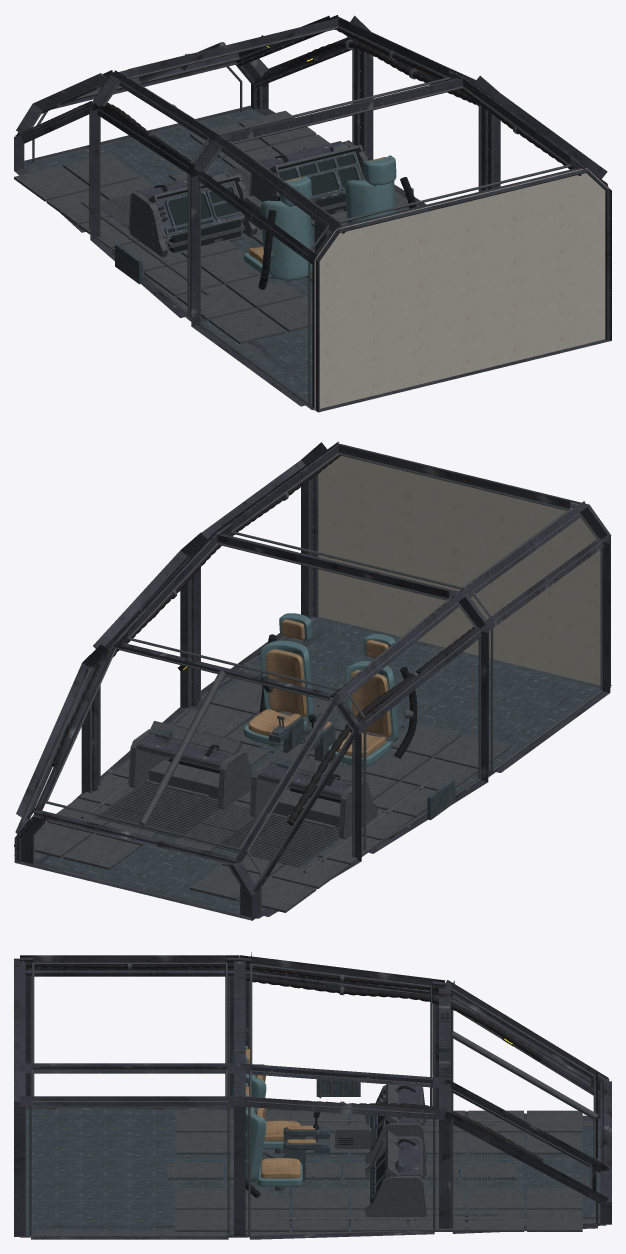
The model's file is miner-cockpit.glb.
The picture shows the model from 3 angles, top to bottom: view 1: azimuth 30°, elevation 25°; view 2: azimuth 150°, elevation 25°; view 3: azimuth 270°, elevation 25°; orthographic projection. The views are drawn at different scales.
Parts seen in each view (by area): view 1: cabin-lining, strut-paint, weathered-blue-steel, exposed-machined-edges, graphite-housings, strut-edge, hose-duct, seat-shell-back-0.0, rubber-and-recess, seat-shell-back-1.2, pod-face, hose-rubber (+2 smaller); view 2: strut-paint, weathered-blue-steel, cabin-lining, graphite-housings, exposed-machined-edges, strut-edge, hose-duct, seat-cushion-back-1.2, pod-face, seat-cushion-back-0.0, seat-shell-back-1.2, hose-rubber (+2 smaller); view 3: strut-paint, weathered-blue-steel, graphite-housings, exposed-machined-edges, hose-duct, strut-edge, pod-face, seat-shell-back-1.2, seat-cushion-pan-1.2, rubber-and-recess, seat-cushion-pan-0.0, seat-shell-pan-1.2.
Boxes of the visible parts, box(x1,y1,x2,y2) form: cabin-lining: box(314, 168, 608, 409); strut-paint: box(14, 15, 611, 412); weathered-blue-steel: box(14, 42, 416, 393); exposed-machined-edges: box(22, 18, 610, 410); graphite-housings: box(24, 108, 361, 404); strut-edge: box(23, 18, 608, 410); hose-duct: box(74, 28, 581, 233); seat-shell-back-0.0: box(260, 200, 313, 280); rubber-and-recess: box(149, 35, 428, 252); seat-shell-back-1.2: box(345, 180, 396, 223); pod-face: box(139, 141, 362, 234); hose-rubber: box(154, 155, 416, 289); strut-paint: box(14, 441, 611, 920); weathered-blue-steel: box(14, 623, 579, 912); cabin-lining: box(318, 455, 600, 685); graphite-housings: box(34, 617, 600, 914); exposed-machined-edges: box(16, 446, 606, 919); strut-edge: box(18, 474, 591, 918); hose-duct: box(51, 455, 493, 825); seat-cushion-back-1.2: box(265, 649, 307, 717); pod-face: box(139, 735, 352, 793); seat-cushion-back-0.0: box(350, 670, 391, 737); seat-shell-back-1.2: box(260, 640, 313, 720); hose-rubber: box(205, 634, 417, 785); strut-paint: box(14, 952, 611, 1239); weathered-blue-steel: box(35, 1030, 597, 1234); graphite-housings: box(25, 1079, 600, 1235); exposed-machined-edges: box(15, 956, 610, 1237); hose-duct: box(20, 961, 543, 1162); strut-edge: box(20, 958, 609, 1235); pod-face: box(383, 1087, 420, 1175); seat-shell-back-1.2: box(245, 1107, 266, 1181); seat-cushion-pan-1.2: box(261, 1158, 300, 1178); rubber-and-recess: box(313, 983, 516, 1203); seat-cushion-pan-0.0: box(264, 1120, 300, 1141); seat-shell-pan-1.2: box(257, 1162, 302, 1186).
Bounding box in the file's own units: 4.45 × 2.5 × 8.16.
Materials: 16 (12 with a texture image).
